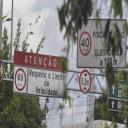speed_limit_40: (79, 32, 92, 57)
speed_limit_60: (14, 68, 27, 92)
